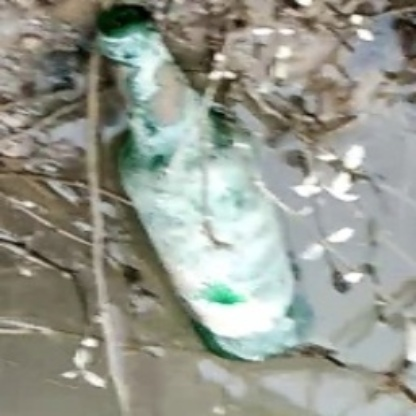bottle: (96, 4, 320, 359)
